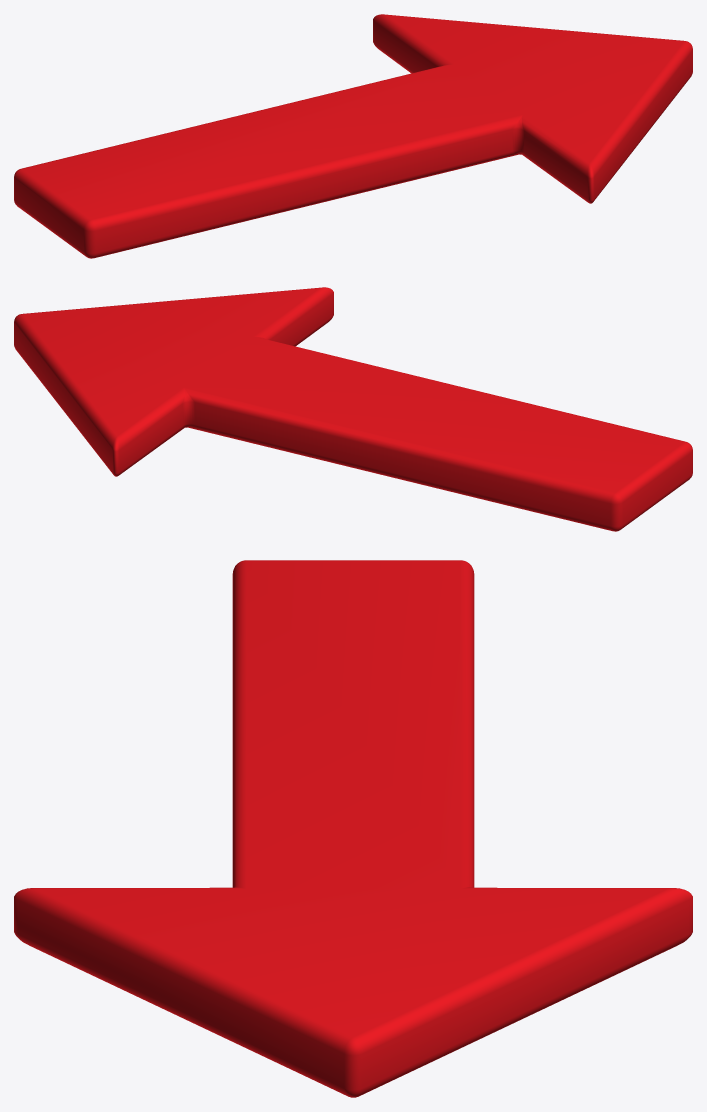
File: Flecha_Ambulancia.fbx
3 renders of one model, top to bottom at view 1: azimuth 30°, elevation 25°; view 2: azimuth 150°, elevation 25°; view 3: azimuth 270°, elevation 25°, orthographic. The views are drawn at different scales.
Parts seen in each view (by area): view 1: Plane; view 2: Plane; view 3: Plane.
Boxes of the visible parts, x1,y1,x2,y2 form: Plane: [14, 14, 692, 258]; Plane: [14, 287, 692, 531]; Plane: [14, 560, 692, 1097].
Size of the model in its own units: 670 by 38 by 394.
